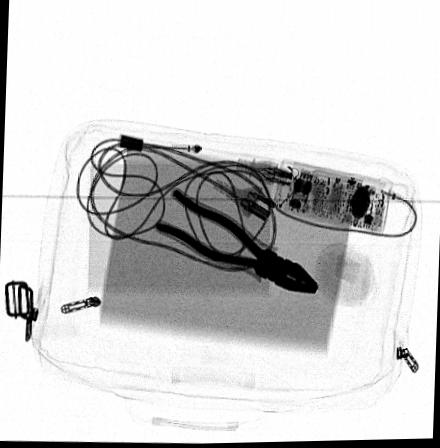Pliers: (150, 186, 318, 294)
